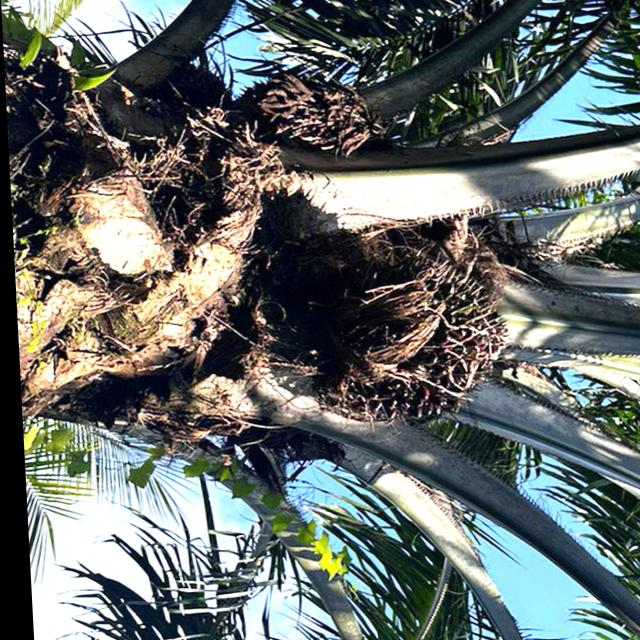unripe: (281, 198, 521, 439)
